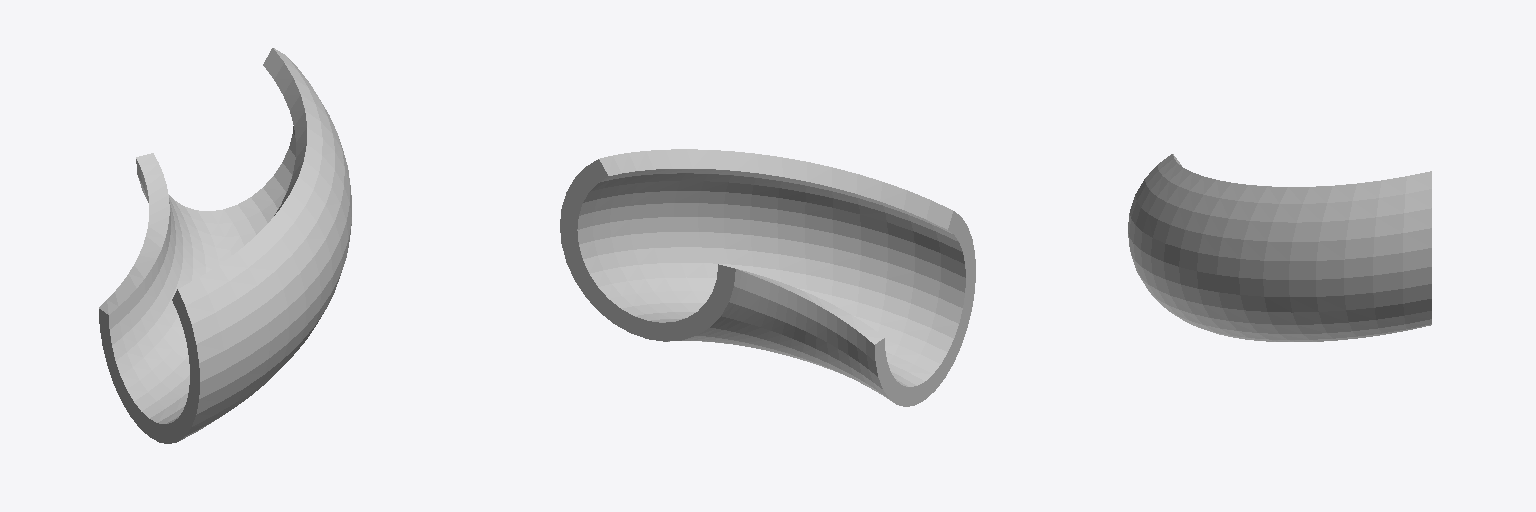
File: turn_right_covered.obj
3 views of the same model, side by side, from view 1: azimuth 30°, elevation 25°; view 2: azimuth 150°, elevation 25°; view 3: azimuth 270°, elevation 25° (orthographic).
Parts seen in each view (by area): view 1: Circle.001_Circle.004; view 2: Circle.001_Circle.004; view 3: Circle.001_Circle.004.
Boxes of the visible parts, x1=… form: Circle.001_Circle.004: x1=99, y1=48, x2=351, y2=443; Circle.001_Circle.004: x1=560, y1=149, x2=975, y2=406; Circle.001_Circle.004: x1=1128, y1=154, x2=1431, y2=341.
Size of the model in its own units: 3 by 2.83 by 3.